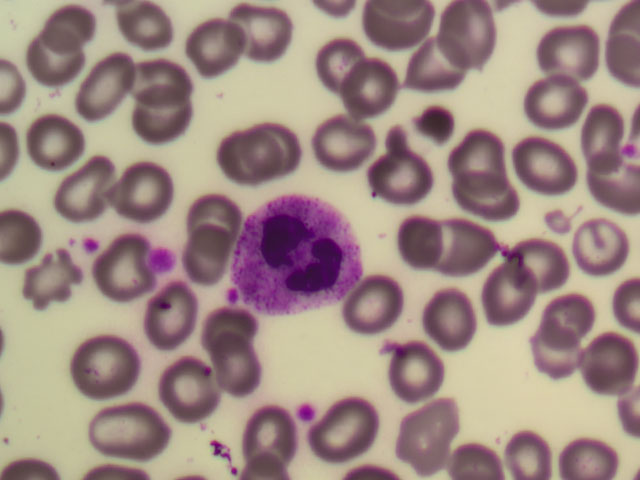Platelets: (149, 246, 175, 271), (294, 395, 316, 424), (79, 237, 100, 254), (223, 287, 241, 300)
RBC: (24, 30, 82, 86), (80, 58, 138, 114), (122, 45, 180, 101), (131, 84, 189, 140), (117, 1, 175, 57), (180, 18, 238, 74), (223, 1, 281, 57), (306, 31, 364, 87), (340, 54, 398, 110), (389, 36, 447, 92), (450, 4, 508, 60), (374, 2, 432, 58), (372, 142, 430, 198), (310, 114, 368, 170), (248, 116, 306, 172), (210, 131, 268, 187), (110, 164, 168, 220), (65, 160, 123, 216), (20, 112, 78, 168), (15, 245, 73, 301), (87, 248, 145, 304), (134, 279, 192, 335), (78, 331, 136, 387), (94, 397, 152, 453), (166, 362, 224, 418), (205, 345, 263, 401), (199, 303, 257, 359), (181, 228, 239, 284), (181, 191, 239, 247), (385, 214, 443, 270), (343, 278, 401, 334), (428, 284, 486, 340), (388, 340, 446, 396), (320, 395, 378, 451), (240, 412, 298, 468), (401, 408, 459, 464), (511, 424, 569, 480), (569, 424, 627, 480), (582, 340, 640, 396), (521, 322, 579, 378), (527, 291, 585, 347), (508, 234, 566, 290), (478, 262, 536, 318), (441, 216, 499, 272), (444, 179, 502, 235), (451, 126, 509, 182), (522, 135, 580, 191), (525, 77, 583, 133), (532, 28, 590, 84), (568, 104, 626, 160), (582, 164, 640, 220), (573, 219, 631, 275), (36, 1, 94, 55)
WBC: (238, 198, 361, 312)
